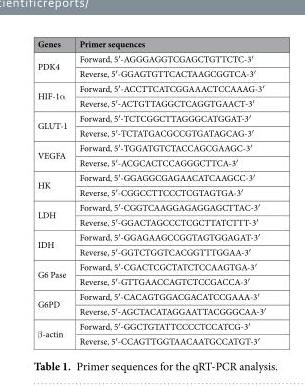table: (36, 37, 265, 346)
table column: (72, 37, 265, 346), (36, 37, 72, 346)
table column header: (36, 37, 265, 50)
table row: (36, 50, 265, 65), (36, 65, 265, 80), (36, 80, 265, 95), (36, 95, 265, 110), (36, 110, 265, 125), (36, 125, 265, 140), (36, 154, 265, 169), (36, 169, 265, 184), (36, 184, 265, 199), (36, 199, 265, 214), (36, 214, 265, 229), (36, 229, 265, 244), (36, 244, 265, 259), (36, 273, 265, 288), (36, 288, 265, 303), (36, 303, 265, 318), (36, 318, 265, 333), (36, 140, 265, 154), (36, 259, 265, 273), (36, 37, 265, 50), (36, 333, 265, 346)
table spanning cell: (36, 50, 72, 80), (36, 80, 72, 110), (36, 110, 72, 140), (36, 169, 72, 199), (36, 199, 72, 229), (36, 229, 72, 259), (36, 288, 72, 318), (36, 140, 72, 169), (36, 259, 72, 288), (36, 318, 72, 346)
